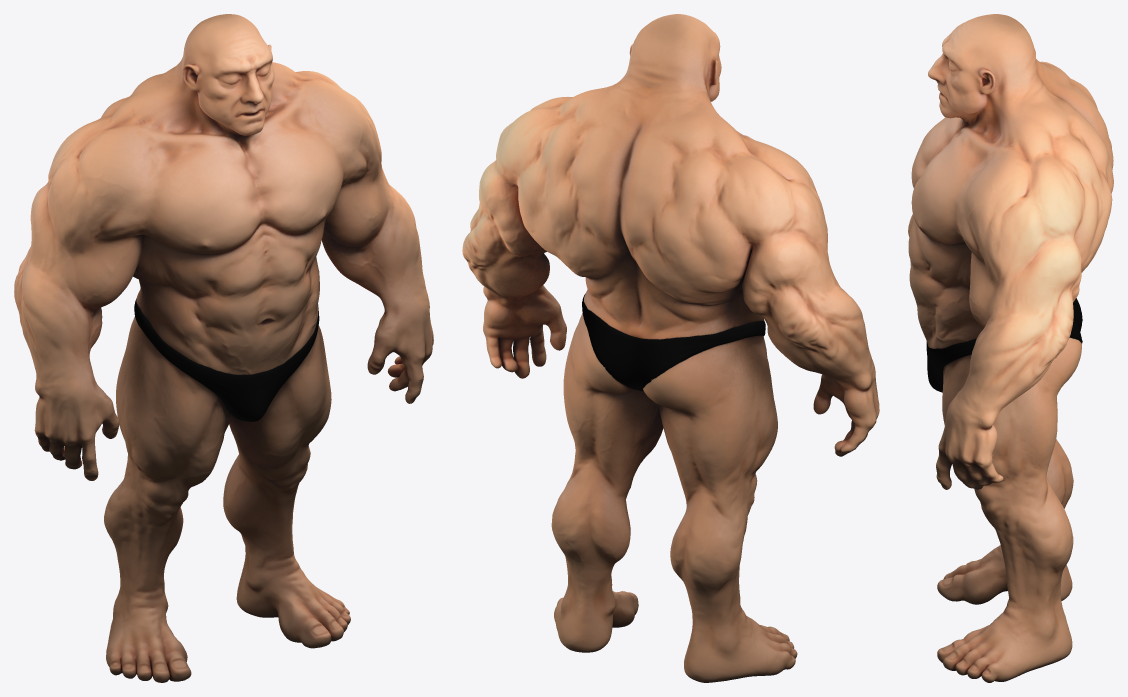
Rendered from super_human.glb.
The picture shows the model from 3 angles, left to right: view 1: azimuth 30°, elevation 25°; view 2: azimuth 150°, elevation 25°; view 3: azimuth 270°, elevation 25°; orthographic projection. The views are drawn at different scales.
Parts seen in each view (by area): view 1: Object_2, Object_3, Object_4; view 2: Object_2, Object_3, Object_4; view 3: Object_3, Object_2, Object_4.
Part boxes in pixels (x1,y1,x2,y2): Object_2: [14, 14, 431, 682]; Object_3: [43, 14, 433, 680]; Object_4: [134, 299, 319, 421]; Object_2: [509, 17, 879, 682]; Object_3: [462, 14, 838, 681]; Object_4: [582, 294, 765, 391]; Object_3: [909, 14, 1108, 681]; Object_2: [908, 14, 1113, 682]; Object_4: [926, 298, 1082, 392].
Size of the model in its own units: 139 by 213 by 64.7.
2 materials, 1 textured.
